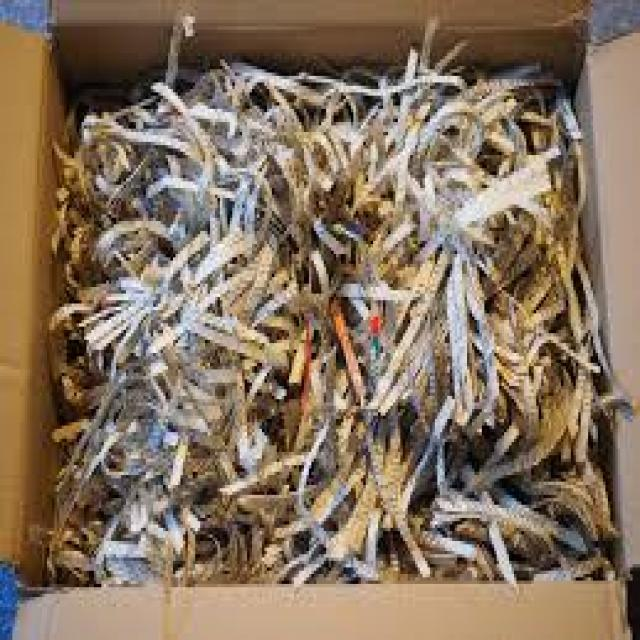cardboard: (10, 577, 628, 637), (586, 20, 638, 574), (0, 17, 47, 601), (47, 0, 588, 30)
paper: (42, 30, 615, 581)
